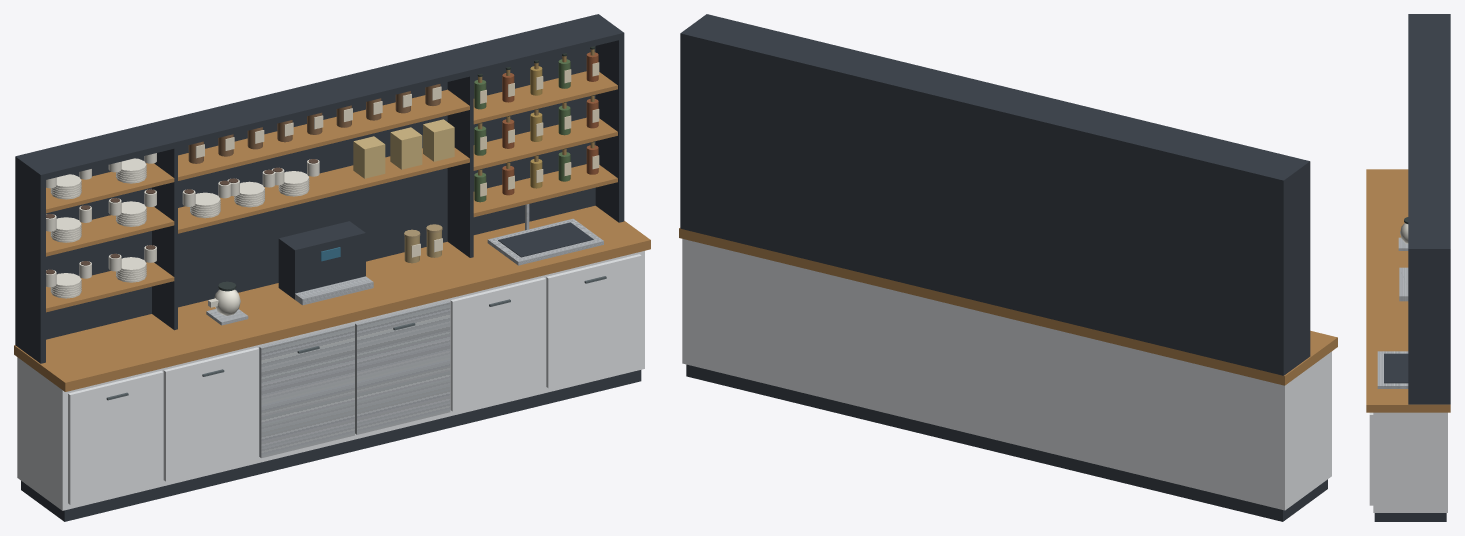
File: shelf-cafe-backbar-4.glb
3 renders of one model, left to right at view 1: azimuth 30°, elevation 25°; view 2: azimuth 150°, elevation 25°; view 3: azimuth 270°, elevation 25°, orthographic. The views are drawn at different scales.
Visible parts, largest first — view 1: backbar-lower-door (×4), backbar-back, backbar-worktop, backbar-stock-deck (×8), backbar-fridge-door (×2), backbar-cap, backbar-cabinet, backbar-side (×2), stock-jars_ece9df, backbar-plinth, backbar-cubby-divider (×2), backbar-prep-machine (+10 smaller); view 2: backbar-back, backbar-cabinet, backbar-cap, backbar-plinth, backbar-side (×2), backbar-worktop; view 3: backbar-cap, backbar-worktop, backbar-cabinet, backbar-side, backbar-sink-well, backbar-plinth, backbar-sink-rim, backbar-lower-door, backbar-prep-tray, stock-kettle_e9e7dd.
Boxes of the visible parts, <box> form: backbar-lower-door (×4): <box>68,254,641,504</box>; backbar-back: <box>46,46,595,339</box>; backbar-worktop: <box>14,205,650,391</box>; backbar-stock-deck (×8): <box>46,71,617,312</box>; backbar-fridge-door (×2): <box>259,301,450,458</box>; backbar-cap: <box>15,14,624,180</box>; backbar-cabinet: <box>17,251,644,510</box>; backbar-side (×2): <box>15,39,624,363</box>; stock-jars_ece9df: <box>46,153,319,298</box>; backbar-plinth: <box>21,370,641,521</box>; backbar-cubby-divider (×2): <box>152,75,473,330</box>; backbar-prep-machine: <box>278,221,365,299</box>; backbar-back: <box>685,41,1278,374</box>; backbar-cabinet: <box>682,239,1331,510</box>; backbar-cap: <box>680,14,1310,186</box>; backbar-plinth: <box>686,364,1327,521</box>; backbar-side (×2): <box>680,40,1310,375</box>; backbar-worktop: <box>679,228,1337,385</box>; backbar-cap: <box>1408,14,1450,253</box>; backbar-worktop: <box>1366,169,1450,412</box>; backbar-cabinet: <box>1373,412,1447,512</box>; backbar-side: <box>1408,254,1450,404</box>; backbar-sink-well: <box>1384,353,1408,383</box>; backbar-plinth: <box>1374,513,1446,521</box>; backbar-sink-rim: <box>1377,351,1408,388</box>; backbar-lower-door: <box>1369,412,1373,505</box>; backbar-prep-tray: <box>1399,267,1408,301</box>; stock-kettle_e9e7dd: <box>1400,223,1408,243</box>.
Size of the model in its own units: 3.96 by 2.15 by 0.6.
Materials: 22 (1 with a texture image).
